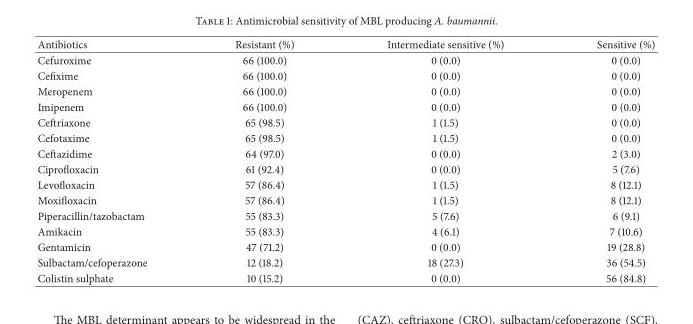table: (36, 36, 654, 285)
table column: (340, 36, 549, 285), (36, 36, 190, 285), (190, 36, 340, 285), (549, 36, 654, 285)
table column header: (36, 36, 654, 51)
table row: (36, 51, 654, 67), (36, 67, 654, 83), (36, 98, 654, 114), (36, 129, 654, 145), (36, 160, 654, 176), (36, 176, 654, 192), (36, 207, 654, 223), (36, 238, 654, 254), (36, 269, 654, 285), (36, 36, 654, 51), (36, 83, 654, 98), (36, 114, 654, 129), (36, 145, 654, 160), (36, 192, 654, 207), (36, 223, 654, 238), (36, 254, 654, 269)
